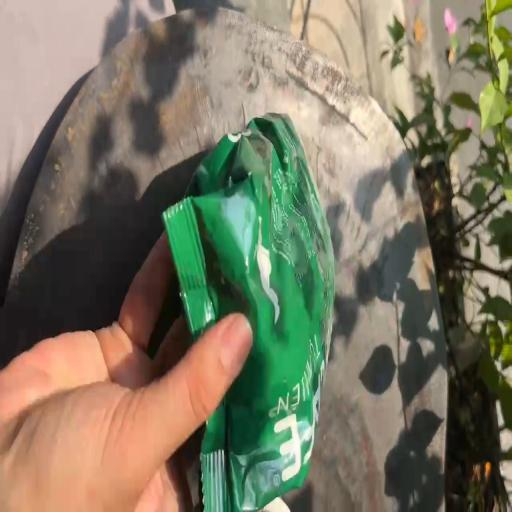cafe_xay: (162, 113, 335, 511)
